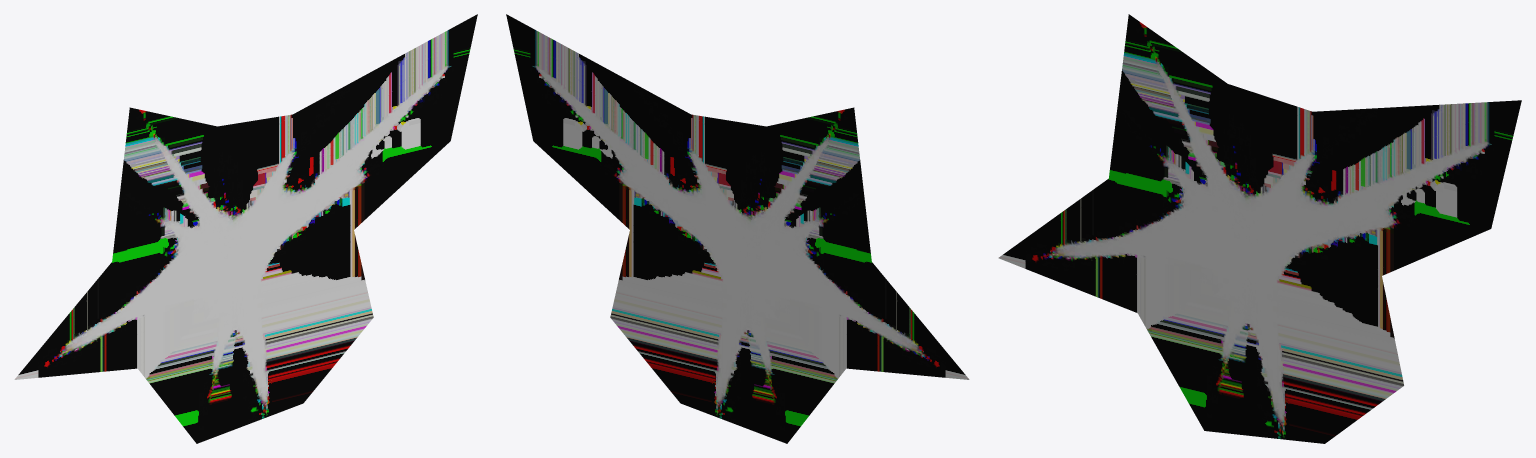
Rendered from SM_VFX_Impact05.fbx.
3 renders of one model, left to right at view 1: azimuth 30°, elevation 25°; view 2: azimuth 150°, elevation 25°; view 3: azimuth 330°, elevation 25°, orthographic. The views are drawn at different scales.
Visible parts, largest first — view 1: SM_VFX_Impact05; view 2: SM_VFX_Impact05; view 3: SM_VFX_Impact05.
Boxes of the visible parts, left/top/right/bottom form: SM_VFX_Impact05: left=14, top=14, right=477, bottom=443; SM_VFX_Impact05: left=506, top=14, right=969, bottom=443; SM_VFX_Impact05: left=998, top=14, right=1521, bottom=443.
Size of the model in its own units: 101 by 75.26 by 1.51e-05.
